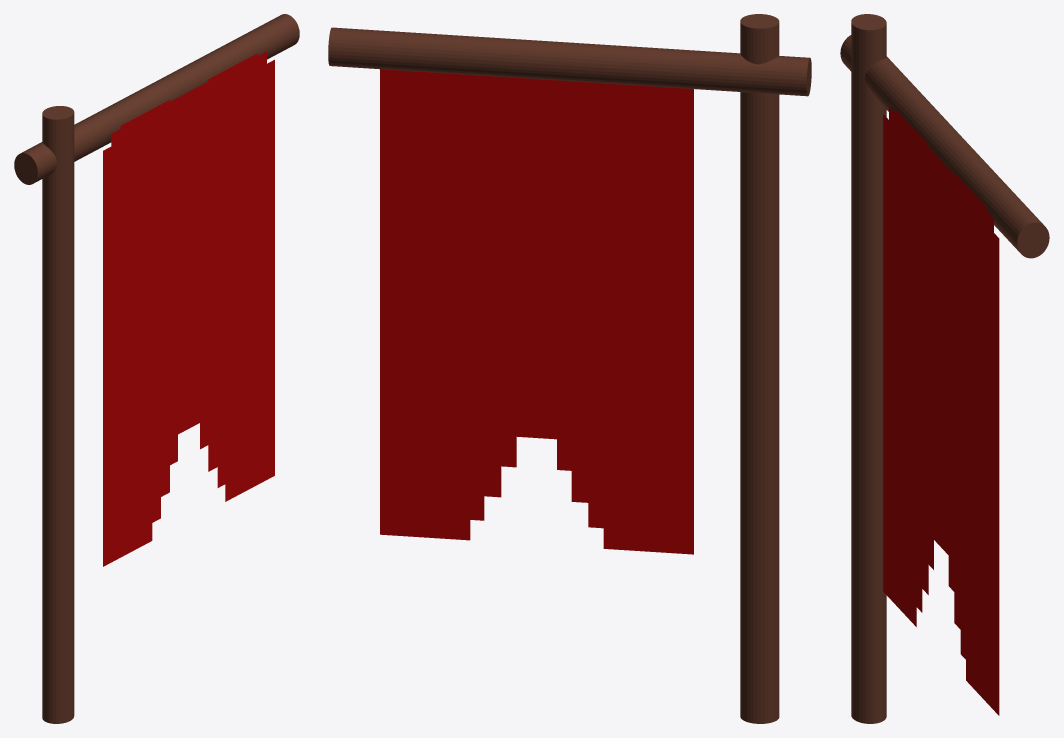
The model's file is Drapeau rouge.fbx.
The picture shows the model from 3 angles, left to right: view 1: azimuth 30°, elevation 25°; view 2: azimuth 150°, elevation 25°; view 3: azimuth 270°, elevation 25°; orthographic projection. The views are drawn at different scales.
Parts seen in each view (by area): view 1: Plan.008; view 2: Plan.008; view 3: Plan.008.
Boxes of the visible parts, x1,y1,x2,y2 form: Plan.008: [14, 14, 299, 723]; Plan.008: [328, 14, 811, 723]; Plan.008: [840, 14, 1049, 723].
Size of the model in its own units: 1.08 by 0.4907 by 1.8.
